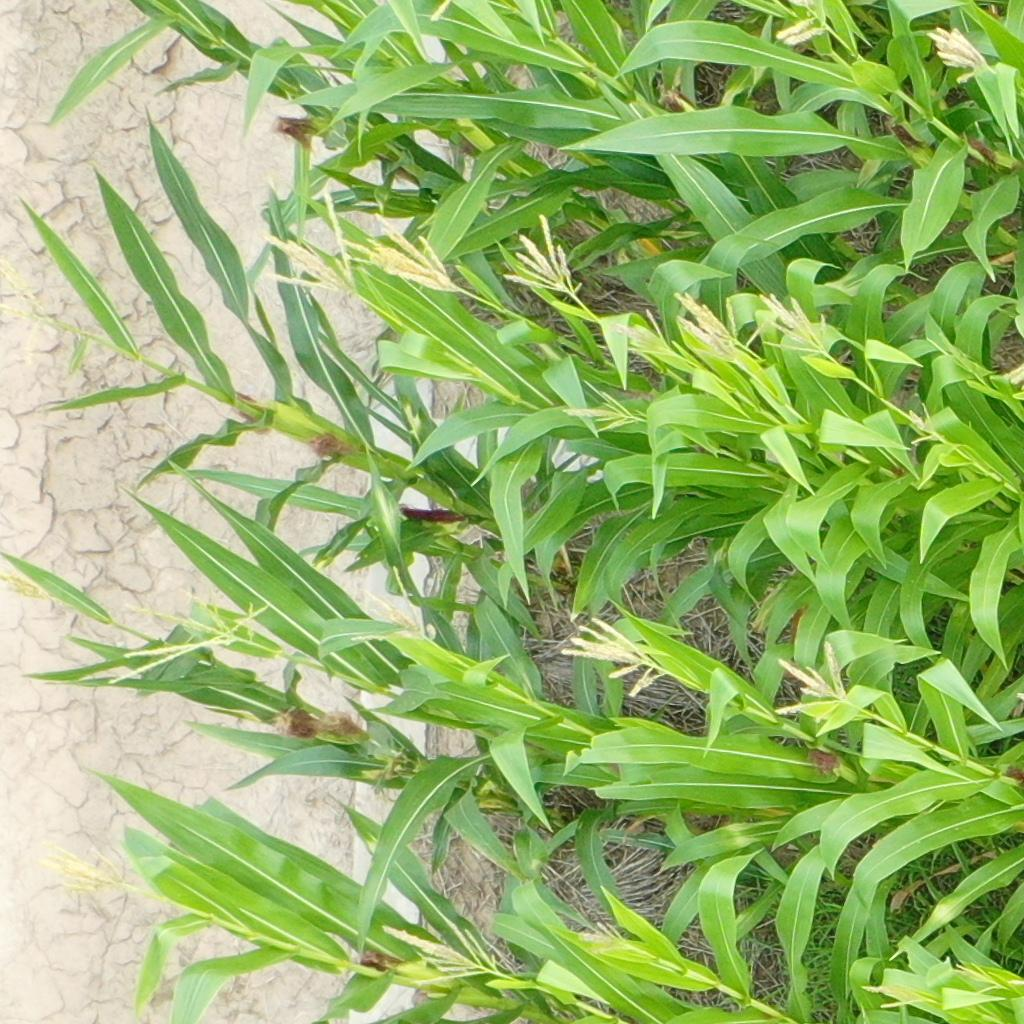Tassel: (107, 590, 283, 691), (262, 189, 360, 298), (340, 209, 460, 294), (556, 613, 667, 700), (377, 915, 502, 988), (501, 213, 586, 297), (344, 564, 427, 648), (770, 641, 851, 718), (40, 842, 136, 899), (673, 288, 751, 358), (759, 291, 833, 357), (926, 23, 996, 88), (1, 256, 51, 326), (561, 388, 638, 433), (612, 307, 672, 360), (777, 1, 834, 47), (575, 919, 629, 960), (957, 962, 1024, 995), (927, 332, 975, 374), (860, 980, 926, 1010), (1, 573, 59, 603), (907, 400, 942, 447)
